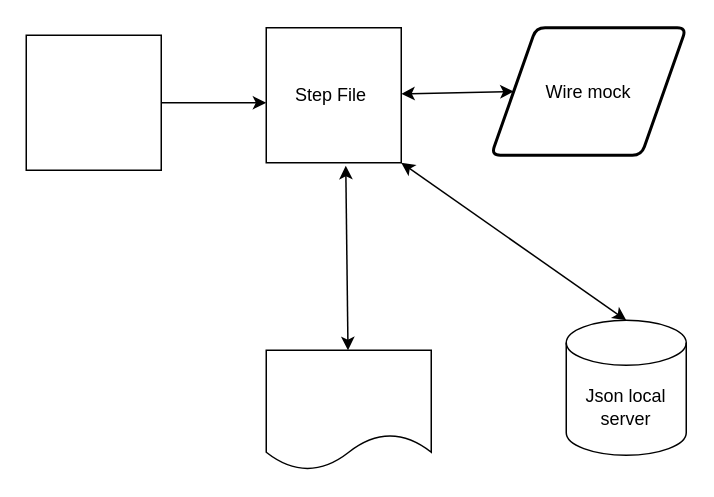
The diagram is 714 pixels wide and 497 high, and some of its shapes have lost their labels. Here are the shapes that lost their labels. From the top down, the box of each, then its label:
(25, 34, 161, 170): Cucuber (BDD)
(265, 349, 431, 470): Test Report
